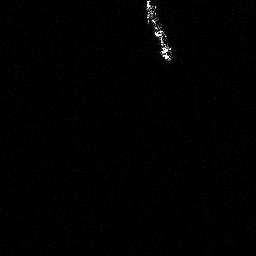ship: (142, 1, 180, 64)
